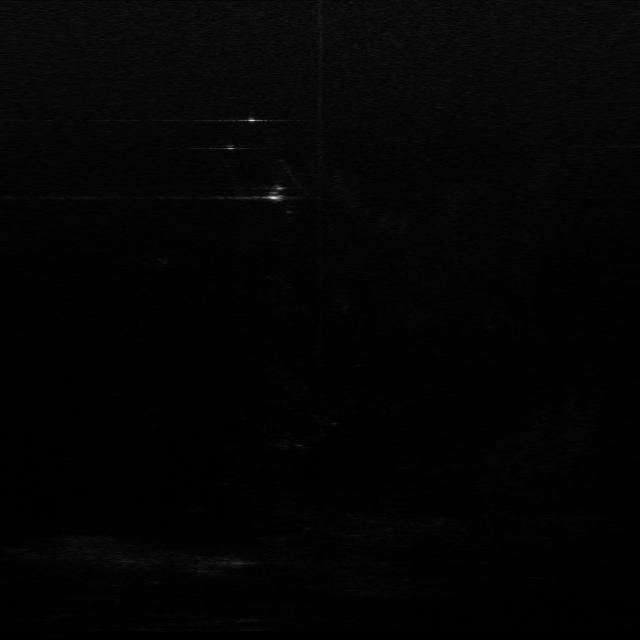rov: (266, 182, 286, 205)
